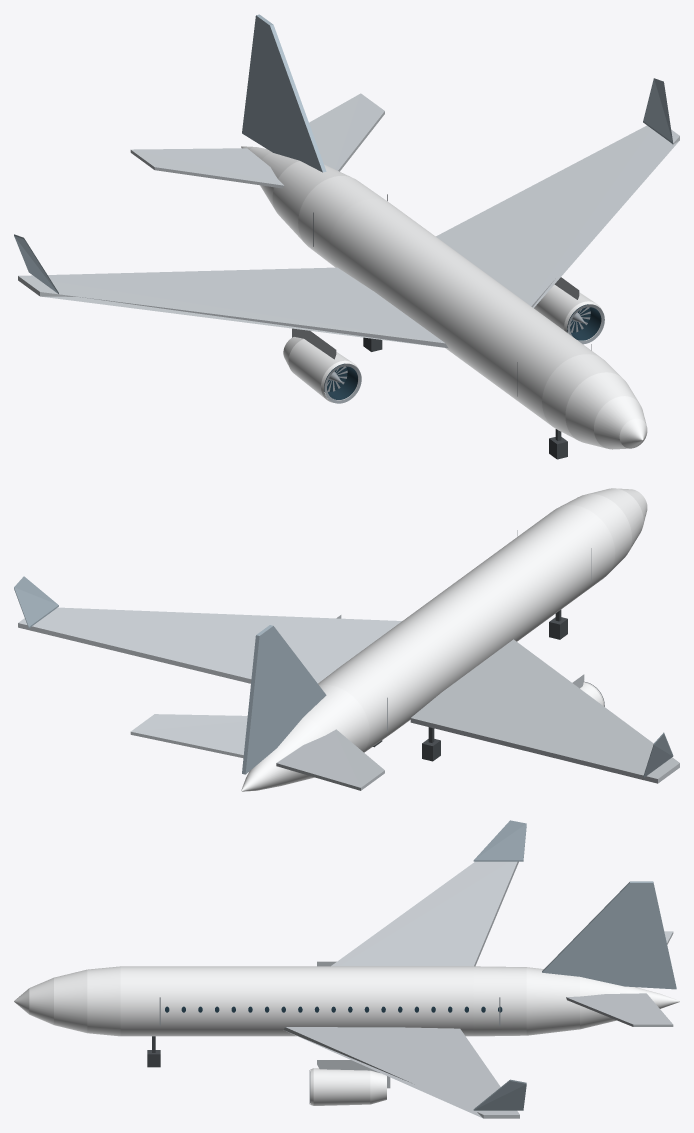
The model's file is a320-neutral-v2.gltf.
3 renders of one model, top to bottom at view 1: azimuth 30°, elevation 25°; view 2: azimuth 150°, elevation 25°; view 3: azimuth 270°, elevation 25°, orthographic. The views are drawn at different scales.
Parts seen in each view (by area): view 1: object 1, Gear; view 2: object 1, Gear; view 3: object 1.
Part boxes in pixels (x1,y1,x2,y2): object 1: (14,14,679,449); Gear: (363,337,567,459); object 1: (14,488,679,791); Gear: (373,610,567,761); object 1: (14,820,679,1118).
Bounding box in the file's own units: 35 × 11.51 × 38.
